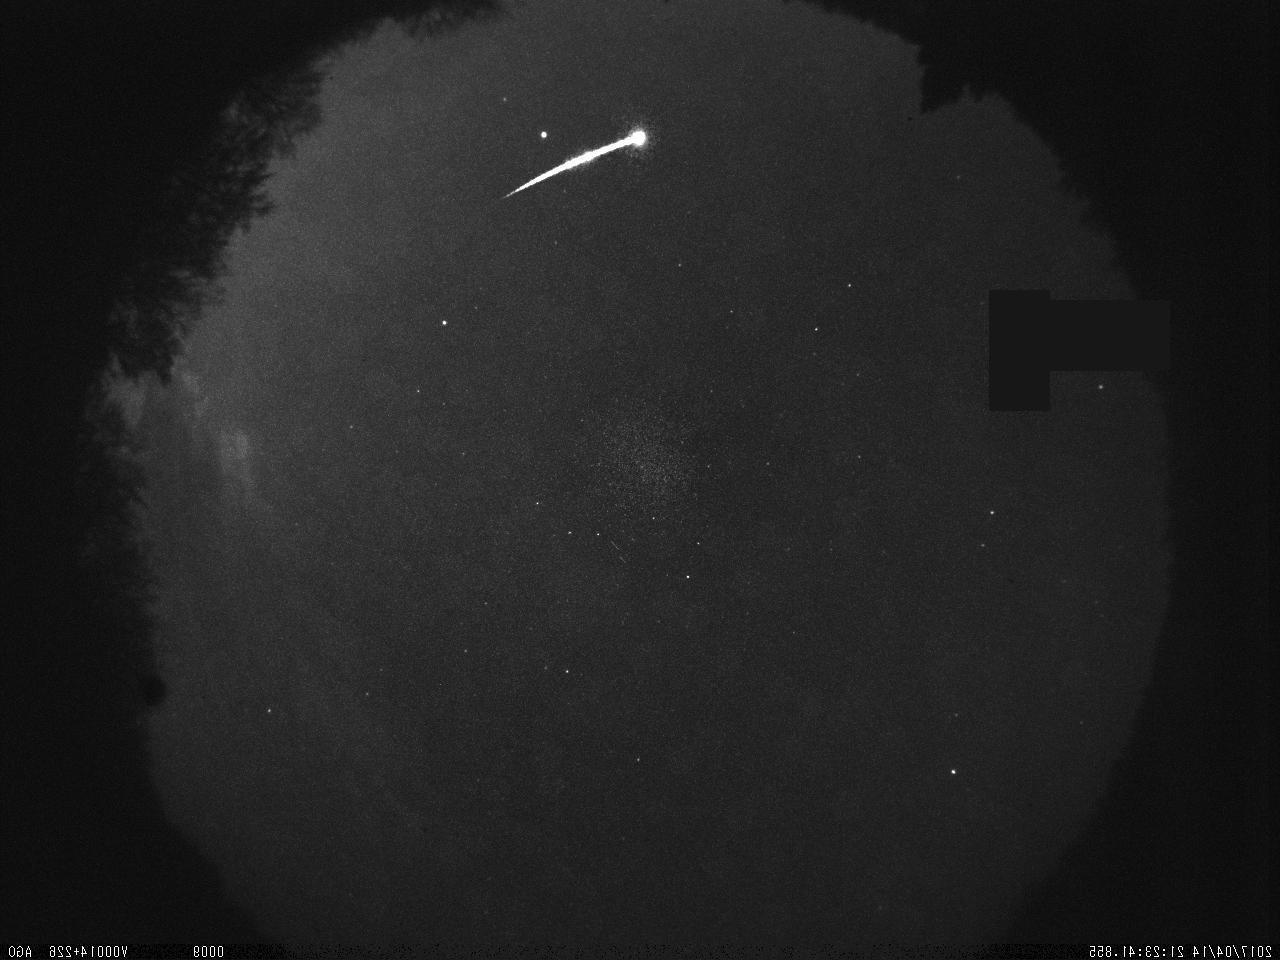meteor: (494, 119, 659, 211)
